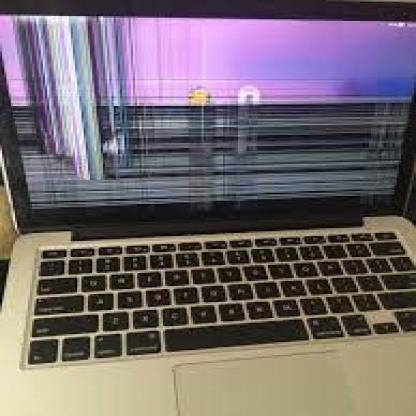lines: (2, 103, 410, 207), (11, 18, 150, 183)
